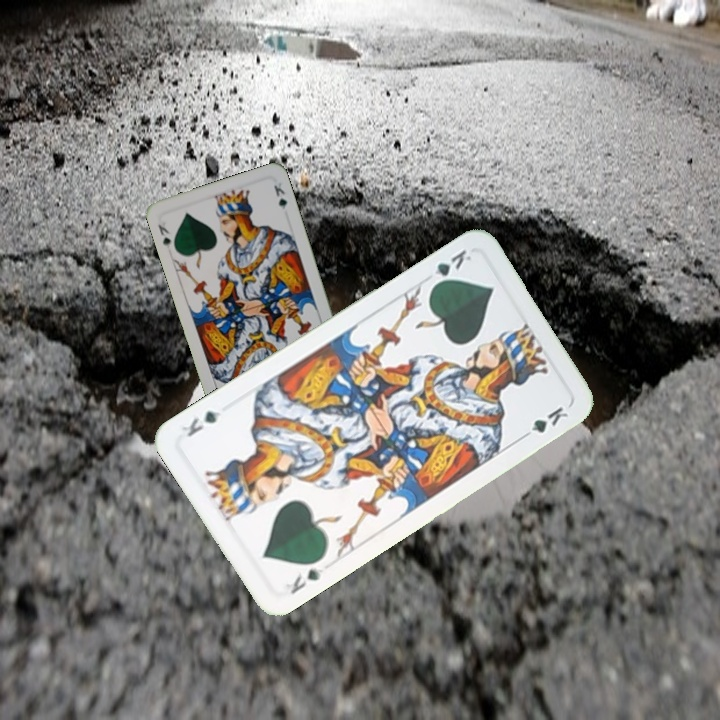GK: (427, 245, 474, 291), (281, 563, 325, 597), (154, 218, 174, 251)
